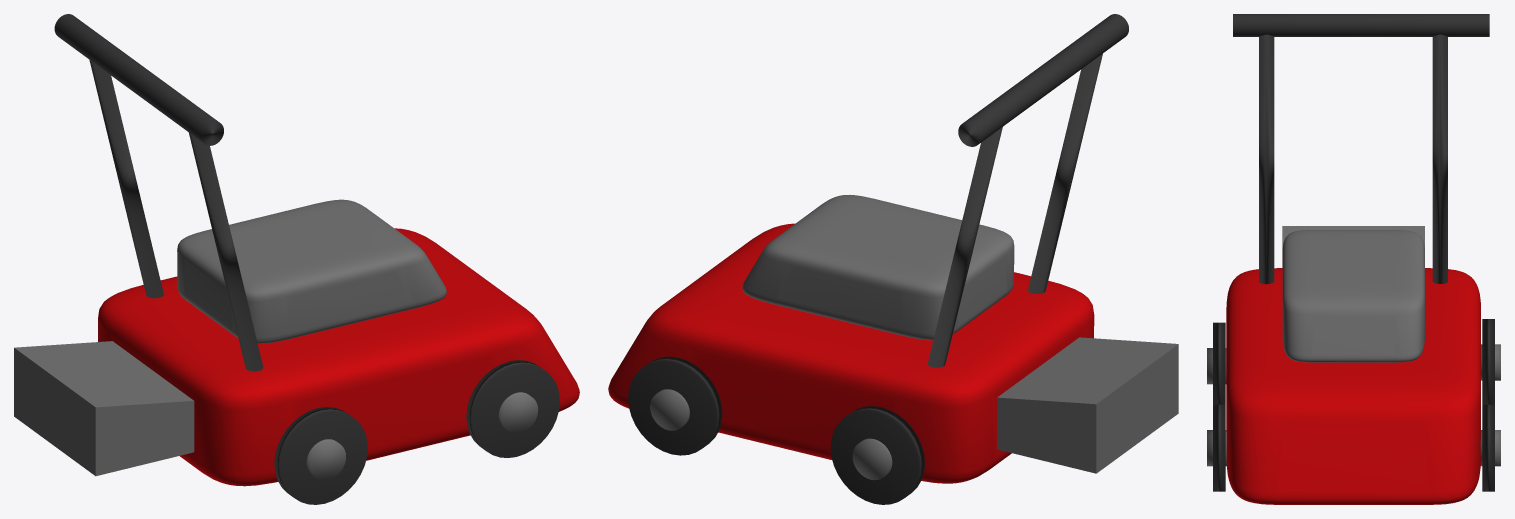
File: lawn_mower.fbx
The picture shows the model from 3 angles, left to right: view 1: azimuth 30°, elevation 25°; view 2: azimuth 150°, elevation 25°; view 3: azimuth 270°, elevation 25°; orthographic projection. The views are drawn at different scales.
Parts seen in each view (by area): view 1: Cube, Cube.003, Cylinder.010, Cylinder.002, Cylinder.007; view 2: Cube, Cube.003, Cylinder.010, Cylinder.002, Cylinder.007; view 3: Cube, Cube.003, Cylinder.010, Cylinder.002, Cylinder.007.
Part boxes in pixels (x1,y1,x2,y2): Cube: (98,228,579,486); Cube.003: (14,199,446,476); Cylinder.010: (54,14,263,371); Cylinder.002: (274,360,559,504); Cylinder.007: (306,392,538,480); Cube: (608,223,1094,483); Cube.003: (742,195,1178,473); Cylinder.010: (927,14,1128,367); Cylinder.002: (628,356,924,504); Cylinder.007: (650,389,892,480); Cube: (1226,268,1480,504); Cube.003: (1282,226,1424,362); Cylinder.010: (1233,14,1489,284); Cylinder.002: (1213,319,1494,491); Cylinder.007: (1207,344,1500,466).
Bounding box in the file's own units: 171 × 139 × 106.
